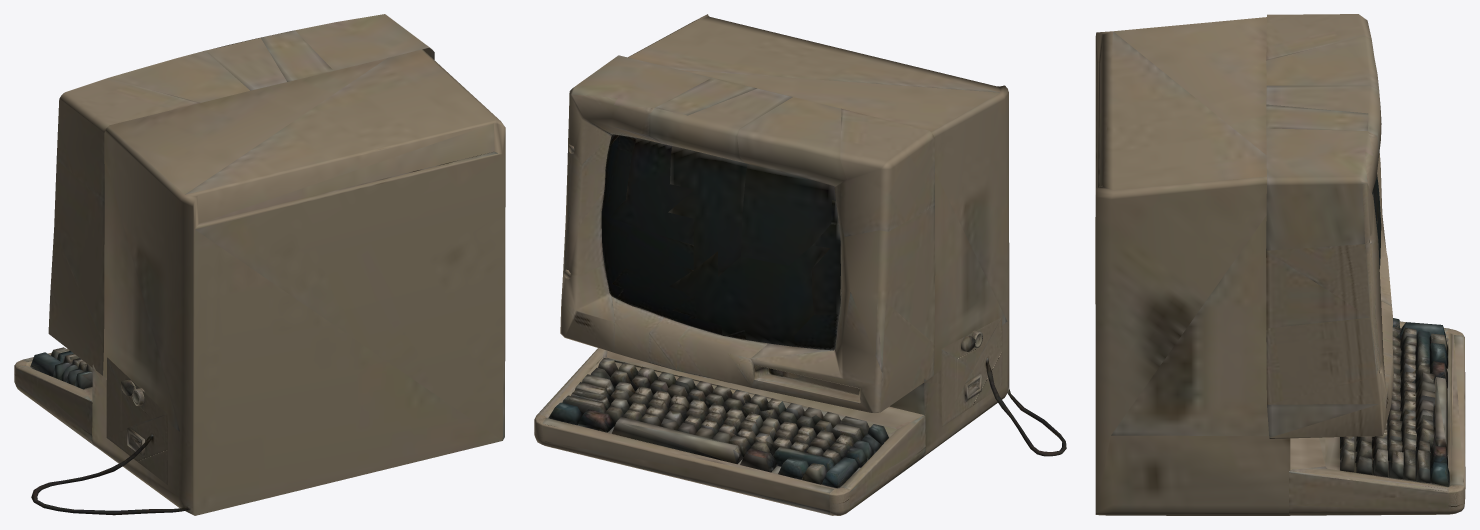
The model's file is office-office-monitor.glb.
3 renders of one model, left to right at view 1: azimuth 30°, elevation 25°; view 2: azimuth 150°, elevation 25°; view 3: azimuth 270°, elevation 25°, orthographic. The views are drawn at different scales.
Visible parts, largest first — view 1: office-monitor; view 2: office-monitor; view 3: office-monitor.
Boxes of the visible parts, <box> form: office-monitor: <box>14,14,505,515</box>; office-monitor: <box>534,14,1066,515</box>; office-monitor: <box>1095,14,1465,515</box>.
Bounding box in the file's own units: 0.55 × 0.4072 × 0.3943.
Materials: 1 (1 with a texture image).
